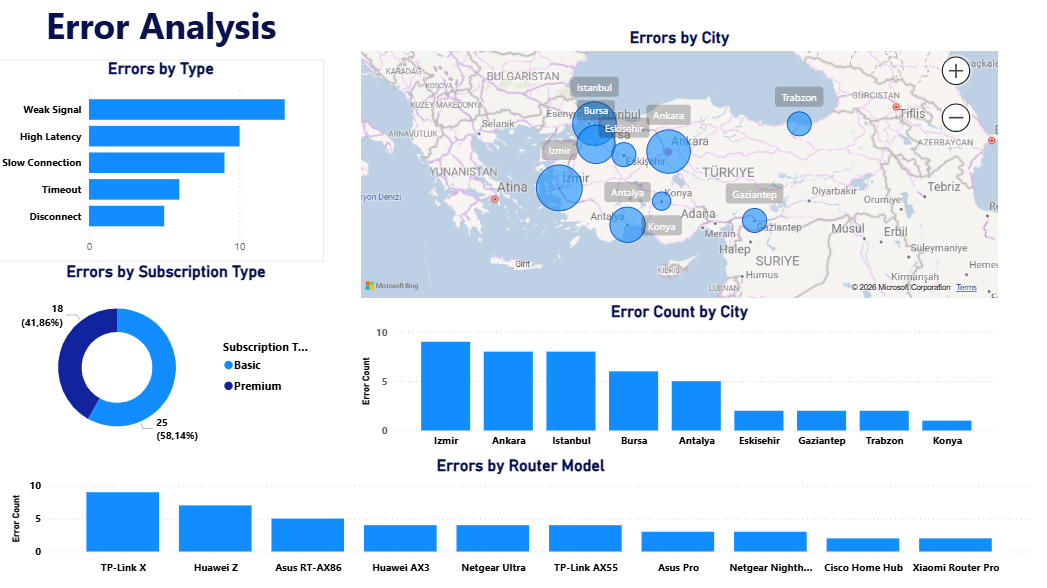

This screenshot's page, from the dashboard's own definition file:
{"tool":"powerbi","page":{"name":"Error Analysis","canvas":[1280,720],"ordinal":5},"visuals":[{"type":"textbox","box":[0,0,391.7,151.7],"z":0},{"type":"clusteredBarChart","title":"Errors by Type","fields":{"Category":["Errors.error_type"],"Y":["CountNonNull(Errors.error_id)"]},"box":[0,76.7,391.7,241.7],"z":1000},{"type":"map","title":"Errors by City","fields":{"Category":["Locations.city"],"Size":["CountNonNull(Errors.error_id)"]},"box":[430,38.3,770,326.7],"z":2000},{"type":"donutChart","title":"Errors by Subscription Type","fields":{"Category":["Users.subscription_type"],"Y":["CountNonNull(Errors.error_id)"]},"box":[11.7,318.3,380,230],"z":3000},{"type":"clusteredColumnChart","title":"Error Count by City","fields":{"Category":["Locations.city"],"Y":["CountNonNull(Errors.error_id)"]},"box":[430,365,770,183.3],"z":4000},{"type":"clusteredColumnChart","title":"Errors by Router Model","fields":{"Category":["Routers.model"],"Y":["CountNonNull(Errors.error_id)"]},"box":[11.9,549.3,1226.9,149.3],"z":5000}]}

Visuals, with their boxes in screenshot pixels (x1, y1, x2, y2), scaled from the page's 1280x720 canvas onto the 1047x588 screenshot:
textbox: rect(0, 0, 320, 124)
"Errors by Type" clusteredBarChart: rect(0, 63, 320, 260)
"Errors by City" map: rect(352, 31, 982, 298)
"Errors by Subscription Type" donutChart: rect(10, 260, 320, 448)
"Error Count by City" clusteredColumnChart: rect(352, 298, 982, 448)
"Errors by Router Model" clusteredColumnChart: rect(10, 449, 1013, 571)
